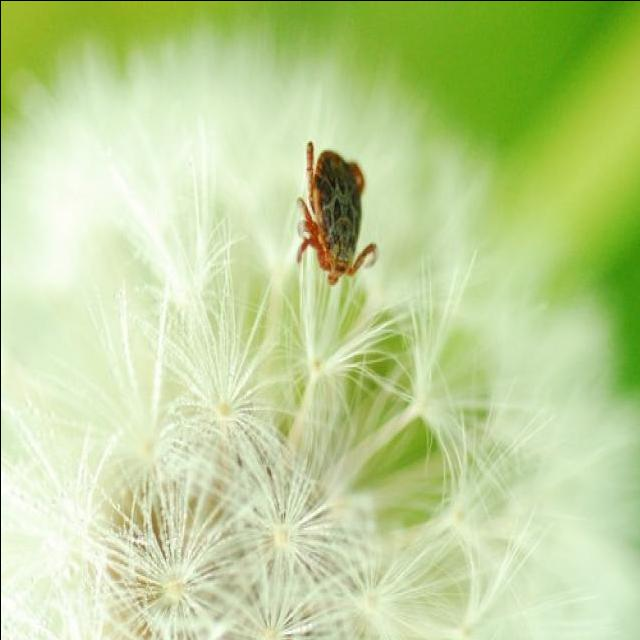Dermacentor Reticulatus-M: (294, 139, 379, 284)
